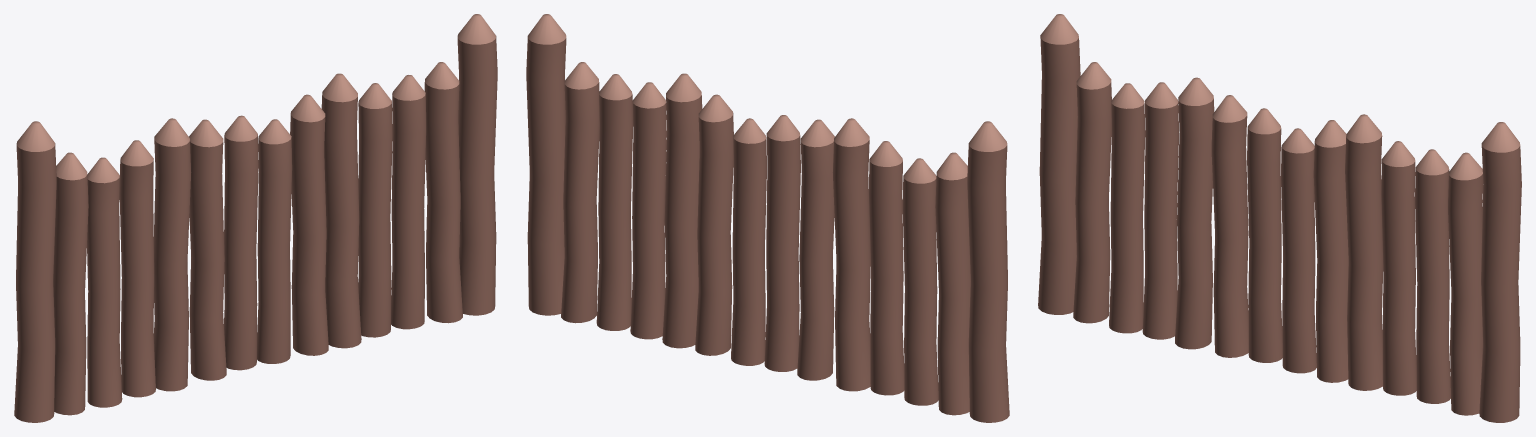
The model's file is PFE-Props-Barière-en-pique.fbx.
3 renders of one model, left to right at view 1: azimuth 30°, elevation 25°; view 2: azimuth 150°, elevation 25°; view 3: azimuth 330°, elevation 25°, orthographic.
Visible parts, largest first — view 1: Pique-Barriere.006; view 2: Pique-Barriere.006; view 3: Pique-Barriere.006.
Part boxes in pixels (left/top/right/bottom): Pique-Barriere.006: left=14, top=14, right=497, bottom=422; Pique-Barriere.006: left=526, top=14, right=1009, bottom=422; Pique-Barriere.006: left=1038, top=14, right=1521, bottom=422.
Size of the model in its own units: 1025 by 600 by 74.93.
